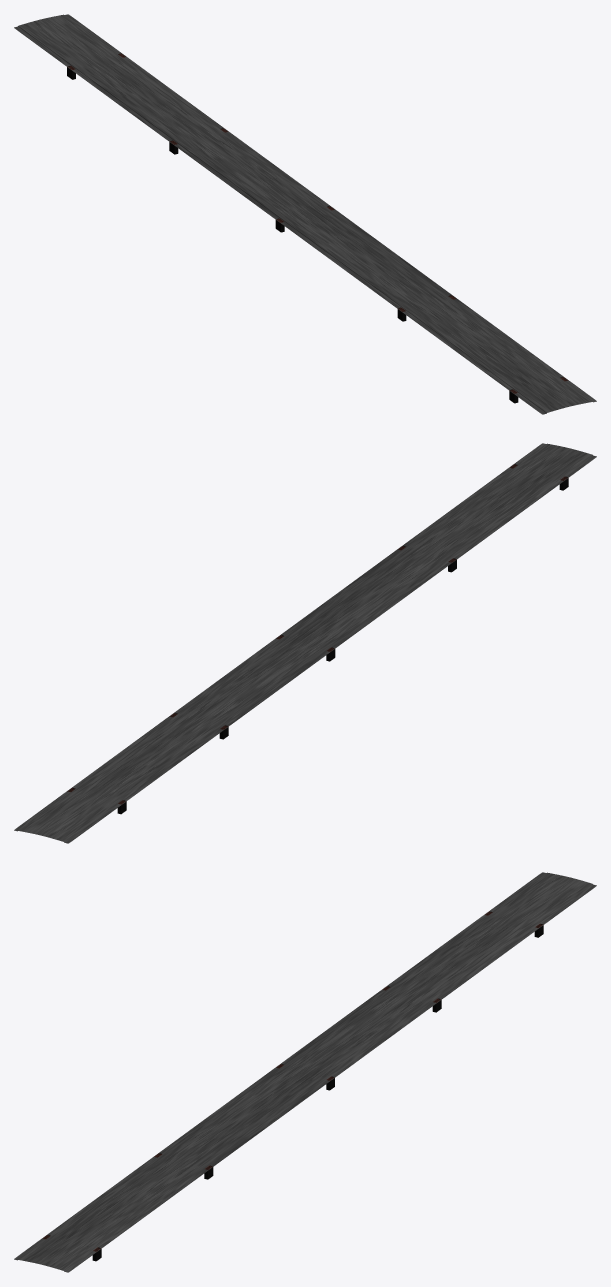
Rendered from new street.fbx.
3 views of the same model, one above another, from view 1: azimuth 30°, elevation 25°; view 2: azimuth 150°, elevation 25°; view 3: azimuth 330°, elevation 25° (orthographic).
Visible parts, largest first — view 1: Plane.001; view 2: Plane.001; view 3: Plane.001.
Boxes of the visible parts, x1,y1,x2,y2 form: Plane.001: (14, 14, 596, 414); Plane.001: (14, 443, 596, 843); Plane.001: (14, 872, 596, 1272).
Bounding box in the file's own units: 241 × 46.37 × 4000.
